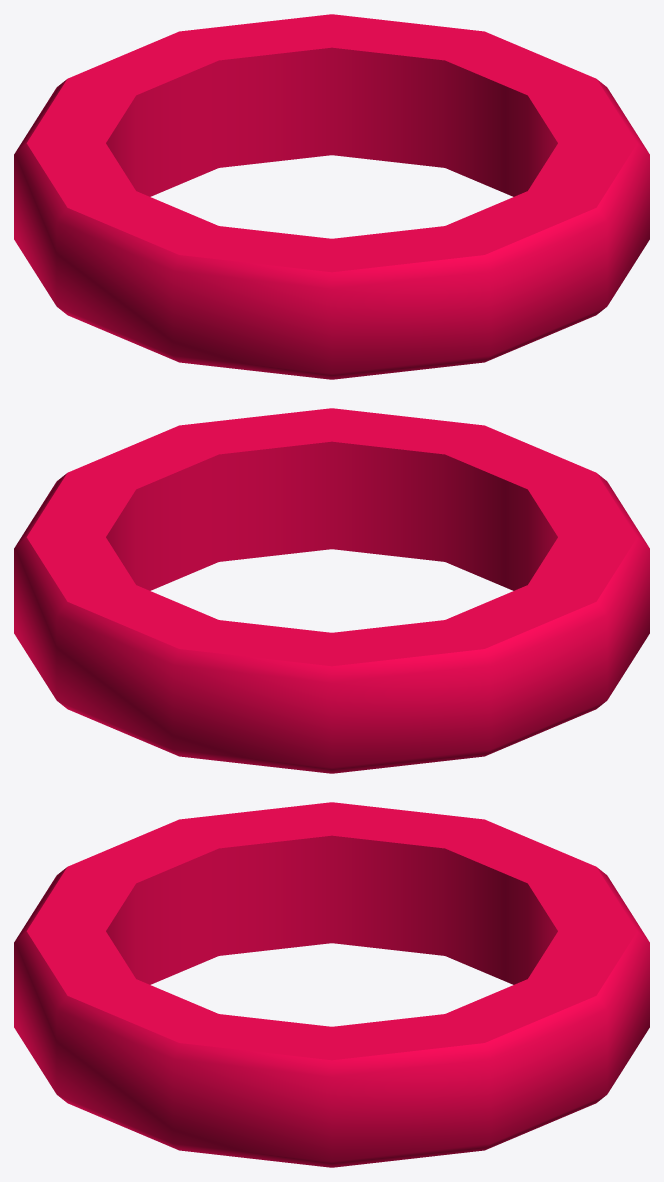
The model's file is pipe_o.FBX.
The picture shows the model from 3 angles, top to bottom: view 1: azimuth 30°, elevation 25°; view 2: azimuth 150°, elevation 25°; view 3: azimuth 270°, elevation 25°; orthographic projection.
Visible parts, largest first — view 1: pipe_o; view 2: pipe_o; view 3: pipe_o.
Part boxes in pixels (bbox=[...]): pipe_o: bbox=[14, 14, 649, 379]; pipe_o: bbox=[14, 408, 649, 773]; pipe_o: bbox=[14, 802, 649, 1167].
Size of the model in its own units: 9 by 1.68 by 9.
